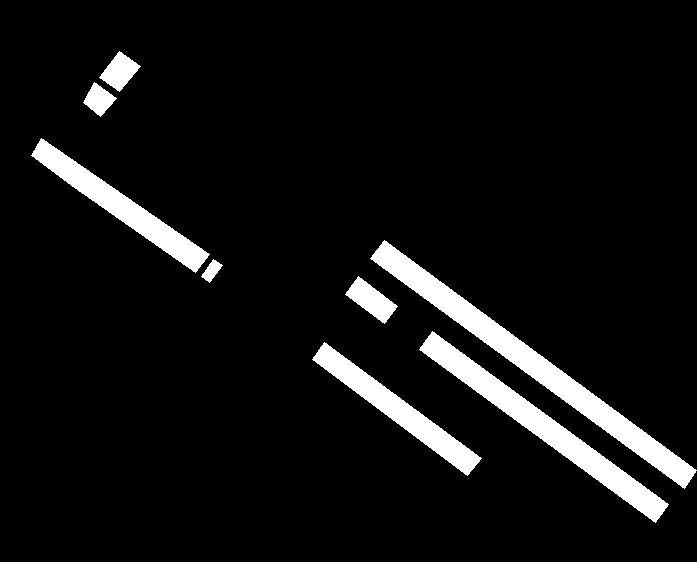parkingspot: (370, 240, 696, 488), (419, 331, 668, 522), (31, 138, 209, 272), (312, 342, 481, 475), (345, 276, 397, 323), (99, 51, 140, 91), (83, 82, 116, 116), (201, 259, 222, 282)
